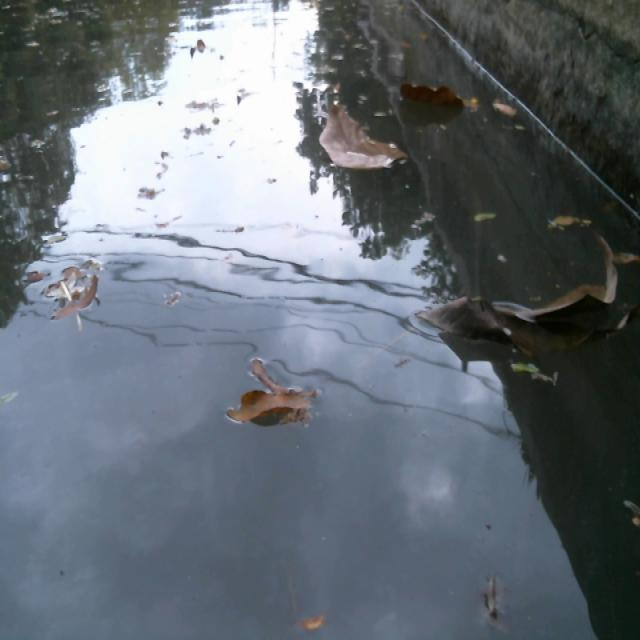Big-leaf: (498, 241, 629, 338), (315, 102, 409, 181), (405, 289, 502, 351), (402, 75, 487, 119)
Small-leaf: (46, 259, 99, 324), (229, 385, 314, 425), (477, 569, 525, 632), (505, 356, 562, 387), (292, 599, 335, 637), (252, 357, 292, 394), (545, 210, 596, 235), (492, 96, 526, 130), (183, 37, 218, 64), (472, 203, 499, 230)
